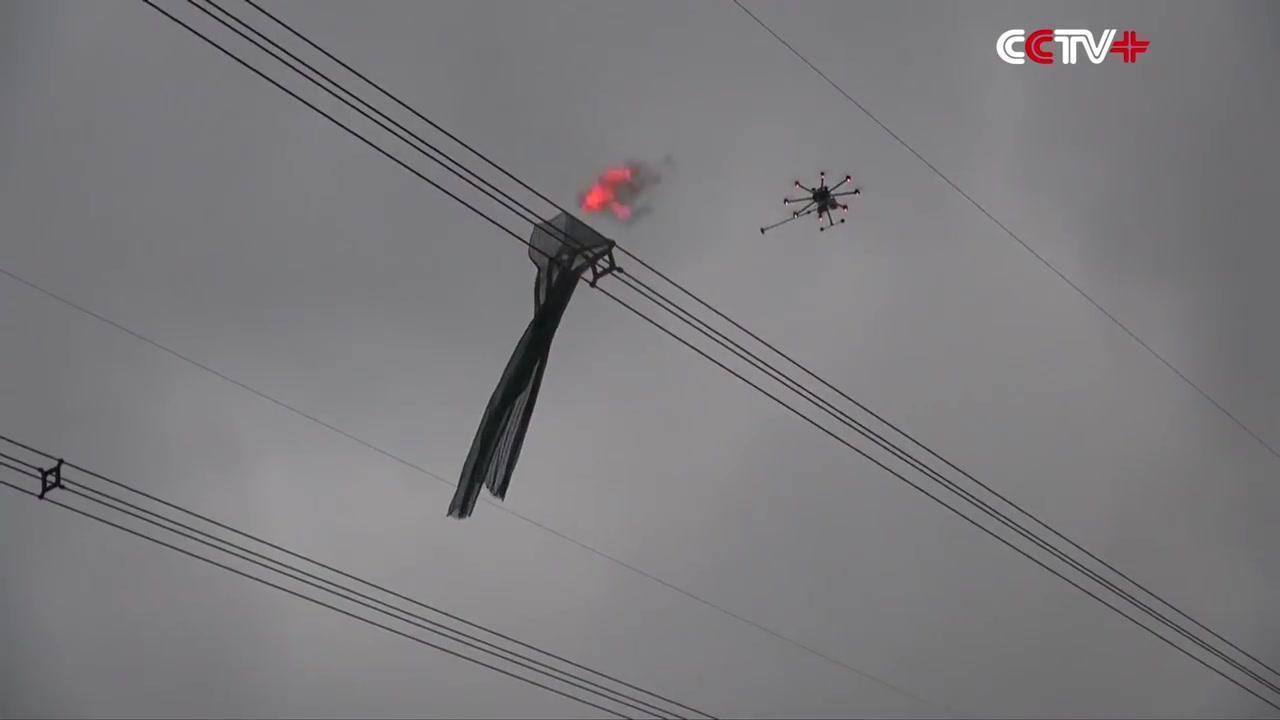UAV: (761, 172, 862, 236)
